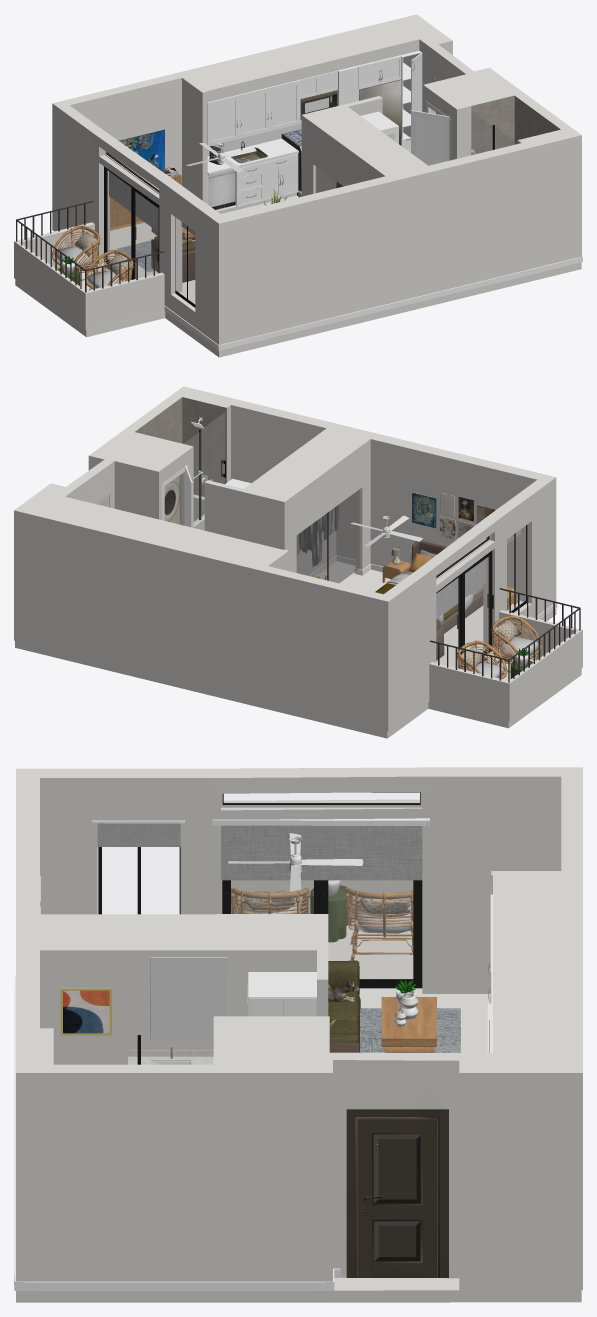
Rendered from PlanwithDog2.glb.
3 renders of one model, top to bottom at view 1: azimuth 30°, elevation 25°; view 2: azimuth 150°, elevation 25°; view 3: azimuth 270°, elevation 25°, orthographic. The views are drawn at different scales.
Visible parts, largest first — view 1: Cube.069, Cube.050, Cube.106, Cube.105, Cube.078, Plane.042, Cube.081, Plane.001, Cube.080, Cube.052, Cube.115, Middle down doors.004 (+21 smaller); view 2: Cube.069, Cube.050, Cube.106, Cube.105, Cube.110, Plane.001, Cube.081, Espera Pro Walk-in.001, Cube.052, Plane.042, Plane.040, BUSKBO_Armchair_010.004 (+7 smaller); view 3: Cube.069, Plane.044, Cube.106, Plane.040, Plane.042, Cube.081, Cube.102, Espera Pro Walk-in.001, Cube.078, Plane.001, Cube.118, Cube.058 (+14 smaller).
Boxes of the visible parts, <box> form: Cube.069: <box>52,14,581,344</box>; Cube.050: <box>14,222,164,330</box>; Cube.106: <box>15,195,581,357</box>; Cube.105: <box>471,95,560,155</box>; Cube.078: <box>164,256,582,350</box>; Plane.042: <box>104,166,136,279</box>; Cube.081: <box>312,109,418,174</box>; Plane.001: <box>132,186,159,279</box>; Cube.080: <box>411,110,449,165</box>; Cube.052: <box>16,200,164,292</box>; Cube.115: <box>207,95,238,145</box>; Middle down doors.004: <box>236,154,298,207</box>; Cube.069: <box>14,386,556,731</box>; Cube.050: <box>429,610,582,721</box>; Cube.106: <box>15,561,581,738</box>; Cube.105: <box>135,397,226,496</box>; Cube.110: <box>296,489,359,583</box>; Plane.001: <box>461,550,493,668</box>; Cube.081: <box>254,430,363,497</box>; Espera Pro Walk-in.001: <box>184,413,225,524</box>; Cube.052: <box>430,588,580,682</box>; Plane.042: <box>436,574,460,668</box>; Plane.040: <box>436,558,486,618</box>; BUSKBO_Armchair_010.004: <box>491,615,541,672</box>; Cube.069: <box>16,767,582,1290</box>; Plane.044: <box>346,1109,448,1277</box>; Cube.106: <box>16,922,581,1302</box>; Plane.040: <box>212,818,429,880</box>; Plane.042: <box>319,880,422,988</box>; Cube.081: <box>40,919,316,942</box>; Cube.102: <box>150,957,247,1041</box>; Espera Pro Walk-in.001: <box>55,1035,212,1064</box>; Cube.078: <box>14,976,340,1290</box>; Plane.001: <box>222,880,319,913</box>; Cube.118: <box>248,972,316,1016</box>; Cube.058: <box>381,997,436,1052</box>.
Size of the model in its own units: 1.37 by 0.3961 by 0.8883.
Materials: 92 (43 with a texture image).
